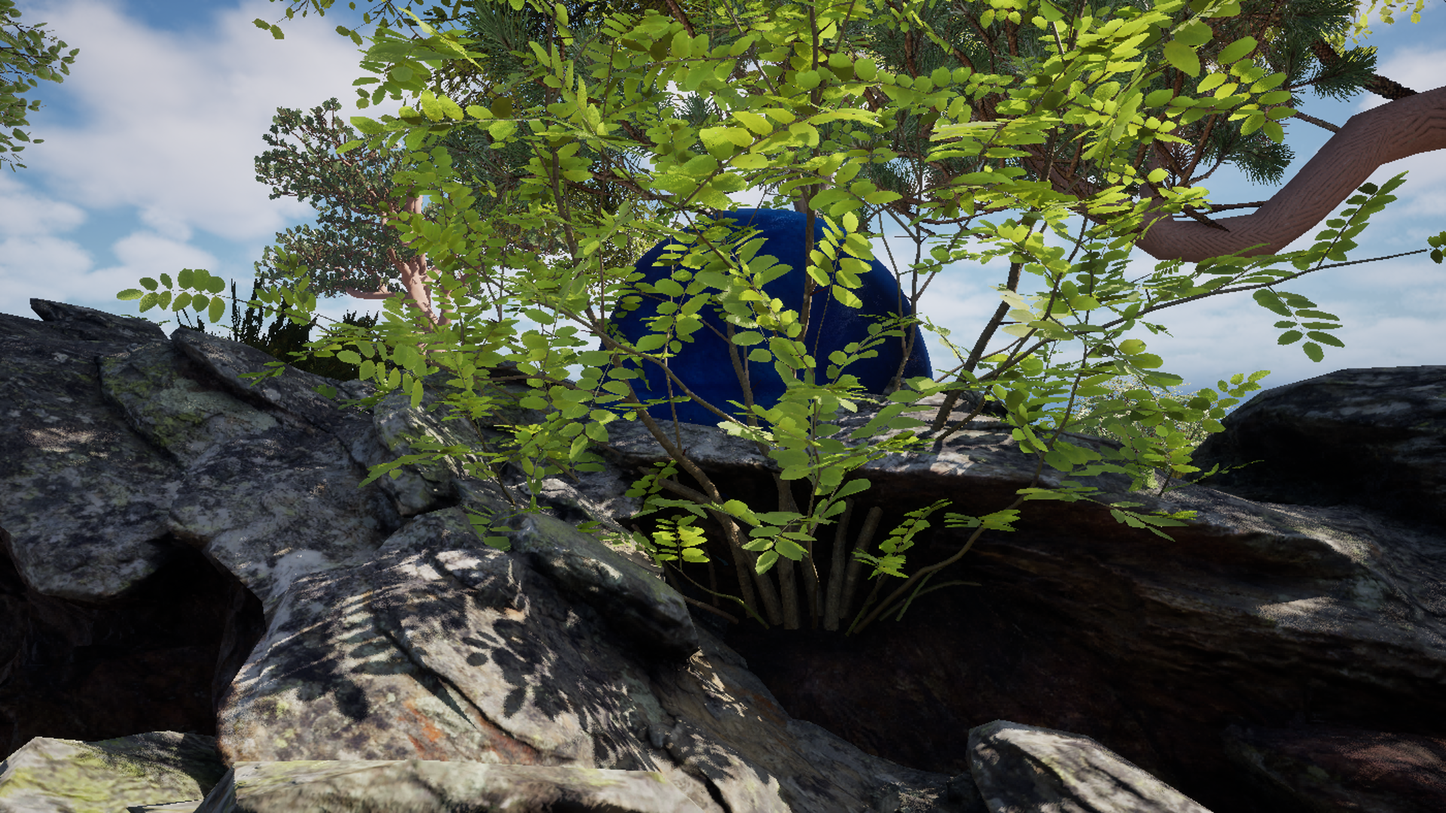Piplup: (264, 70, 1146, 743)
